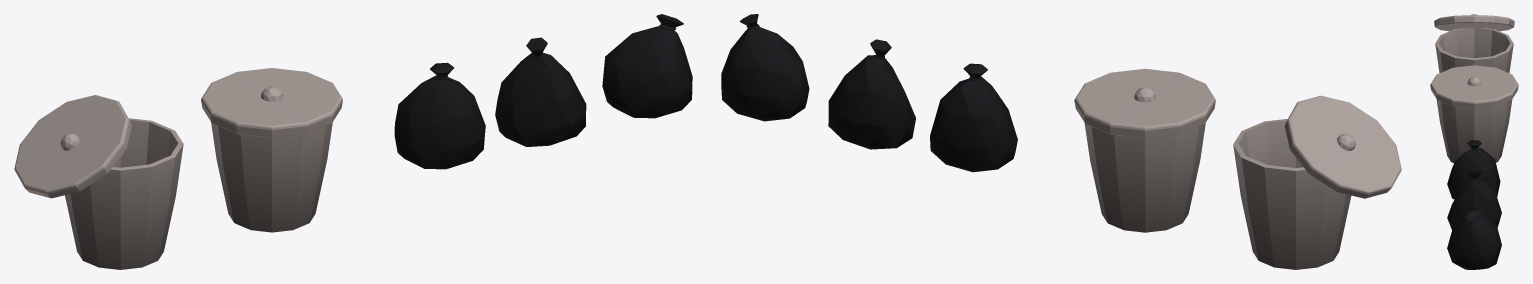
The model's file is trash_bin_pack_low_poly.obj.
3 renders of one model, left to right at view 1: azimuth 30°, elevation 25°; view 2: azimuth 150°, elevation 25°; view 3: azimuth 270°, elevation 25°, orthographic. The views are drawn at different scales.
Visible parts, largest first — view 1: Icosphere006_Material001_0, Icosphere005_Material001_0, Icosphere004_Material001_0, Icosphere001_Material001_0, Icosphere003_Material001_0, Icosphere002_Material001_0; view 2: Icosphere006_Material001_0, Icosphere005_Material001_0, Icosphere004_Material001_0, Icosphere003_Material001_0, Icosphere001_Material001_0, Icosphere002_Material001_0; view 3: Icosphere006_Material001_0, Icosphere005_Material001_0, Icosphere003_Material001_0, Icosphere002_Material001_0, Icosphere001_Material001_0, Icosphere004_Material001_0.
Part boxes in pixels (x1,y1,x2,y2): Icosphere006_Material001_0: (201, 68, 342, 232); Icosphere005_Material001_0: (65, 118, 183, 269); Icosphere004_Material001_0: (14, 95, 131, 198); Icosphere001_Material001_0: (394, 62, 485, 169); Icosphere003_Material001_0: (602, 14, 692, 118); Icosphere002_Material001_0: (495, 37, 586, 146); Icosphere006_Material001_0: (1074, 68, 1215, 232); Icosphere005_Material001_0: (1233, 119, 1351, 269); Icosphere004_Material001_0: (1284, 95, 1401, 198); Icosphere003_Material001_0: (721, 14, 809, 121); Icosphere001_Material001_0: (930, 63, 1017, 172); Icosphere002_Material001_0: (828, 39, 915, 149); Icosphere006_Material001_0: (1430, 65, 1518, 162); Icosphere005_Material001_0: (1435, 28, 1513, 72); Icosphere003_Material001_0: (1447, 210, 1501, 269); Icosphere002_Material001_0: (1447, 170, 1501, 229); Icosphere001_Material001_0: (1447, 140, 1500, 199); Icosphere004_Material001_0: (1434, 14, 1514, 31).
Size of the model in its own units: 13.32 by 2.89 by 2.46.
1 material, 1 textured.
